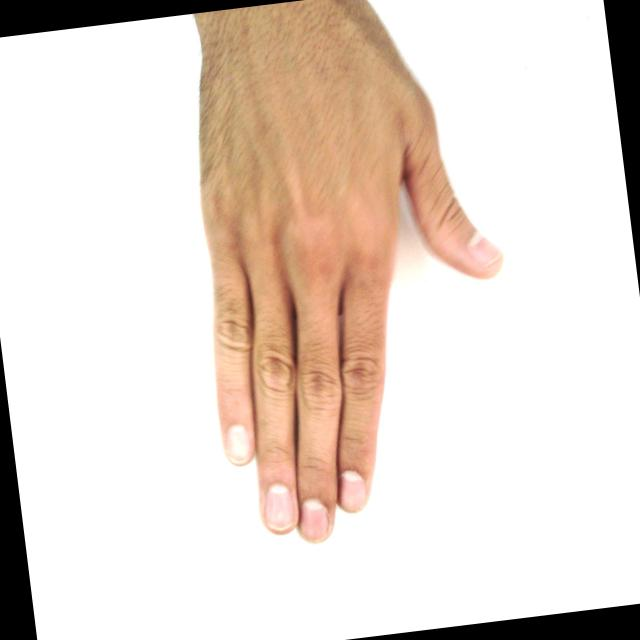Nail: (465, 229, 504, 268), (264, 482, 294, 532), (299, 498, 329, 542), (338, 471, 367, 513), (225, 423, 251, 465)
